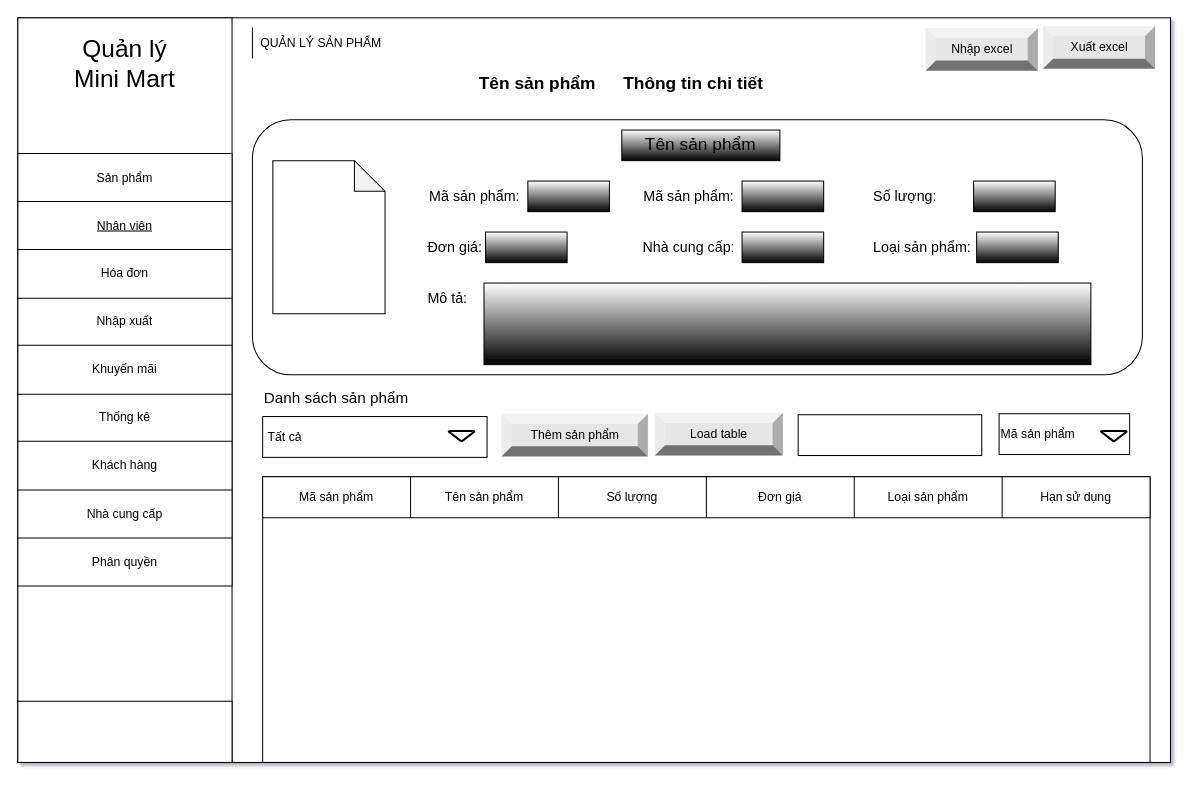
Some shapes in this 1194 by 786 pixel diagram are drawn without their labels. The centre of each missing label's shape, as x and y in pixels:
Tìm kiếm: the point at 889,435
Đăng xuất: the point at 124,731
Ảnh sản phẩm: the point at 328,237
